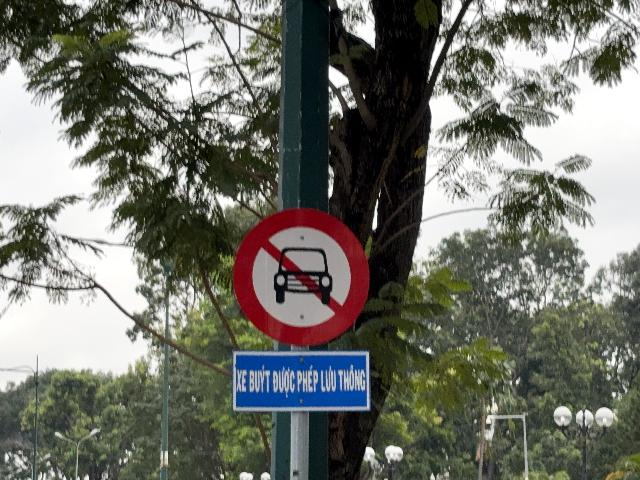cam-o-to: (234, 208, 370, 346)
